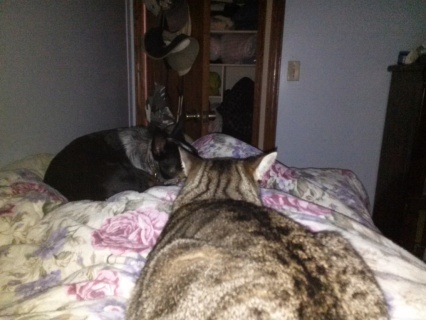Cat: (125, 145, 392, 319), (43, 107, 196, 203)
